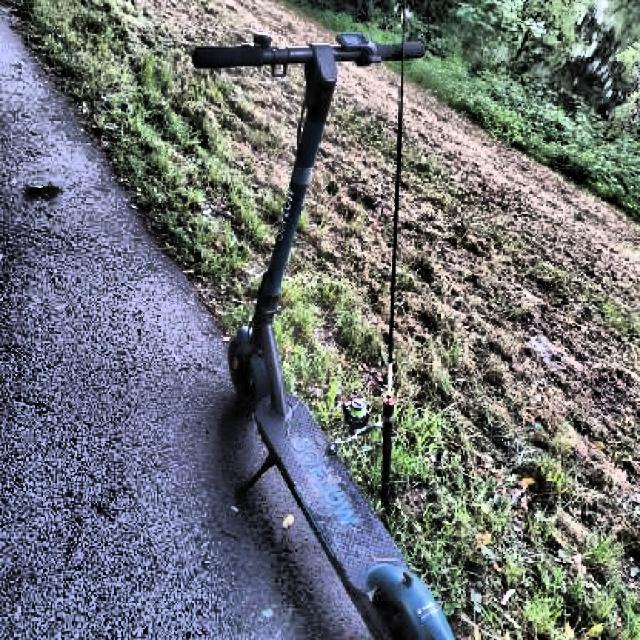bike: (222, 11, 485, 639), (188, 26, 430, 632)
